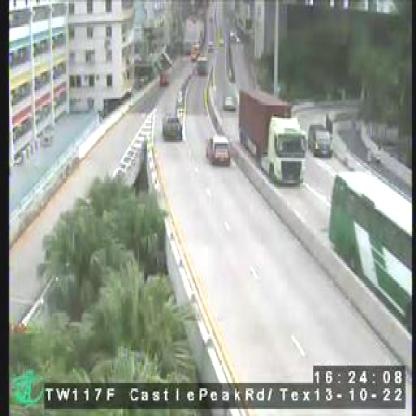Bus: (330, 166, 413, 338), (196, 56, 208, 76)
Car: (308, 123, 332, 158), (206, 136, 232, 166), (163, 113, 182, 141), (224, 95, 236, 109)
Truck: (238, 89, 305, 186)
